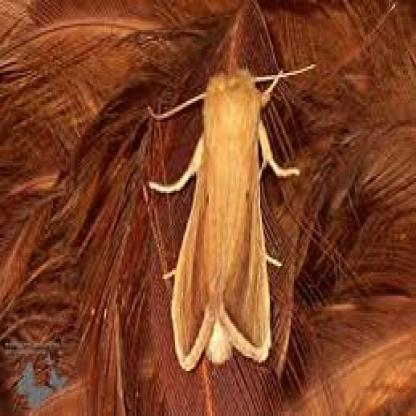stem-borer: (169, 64, 278, 374)
